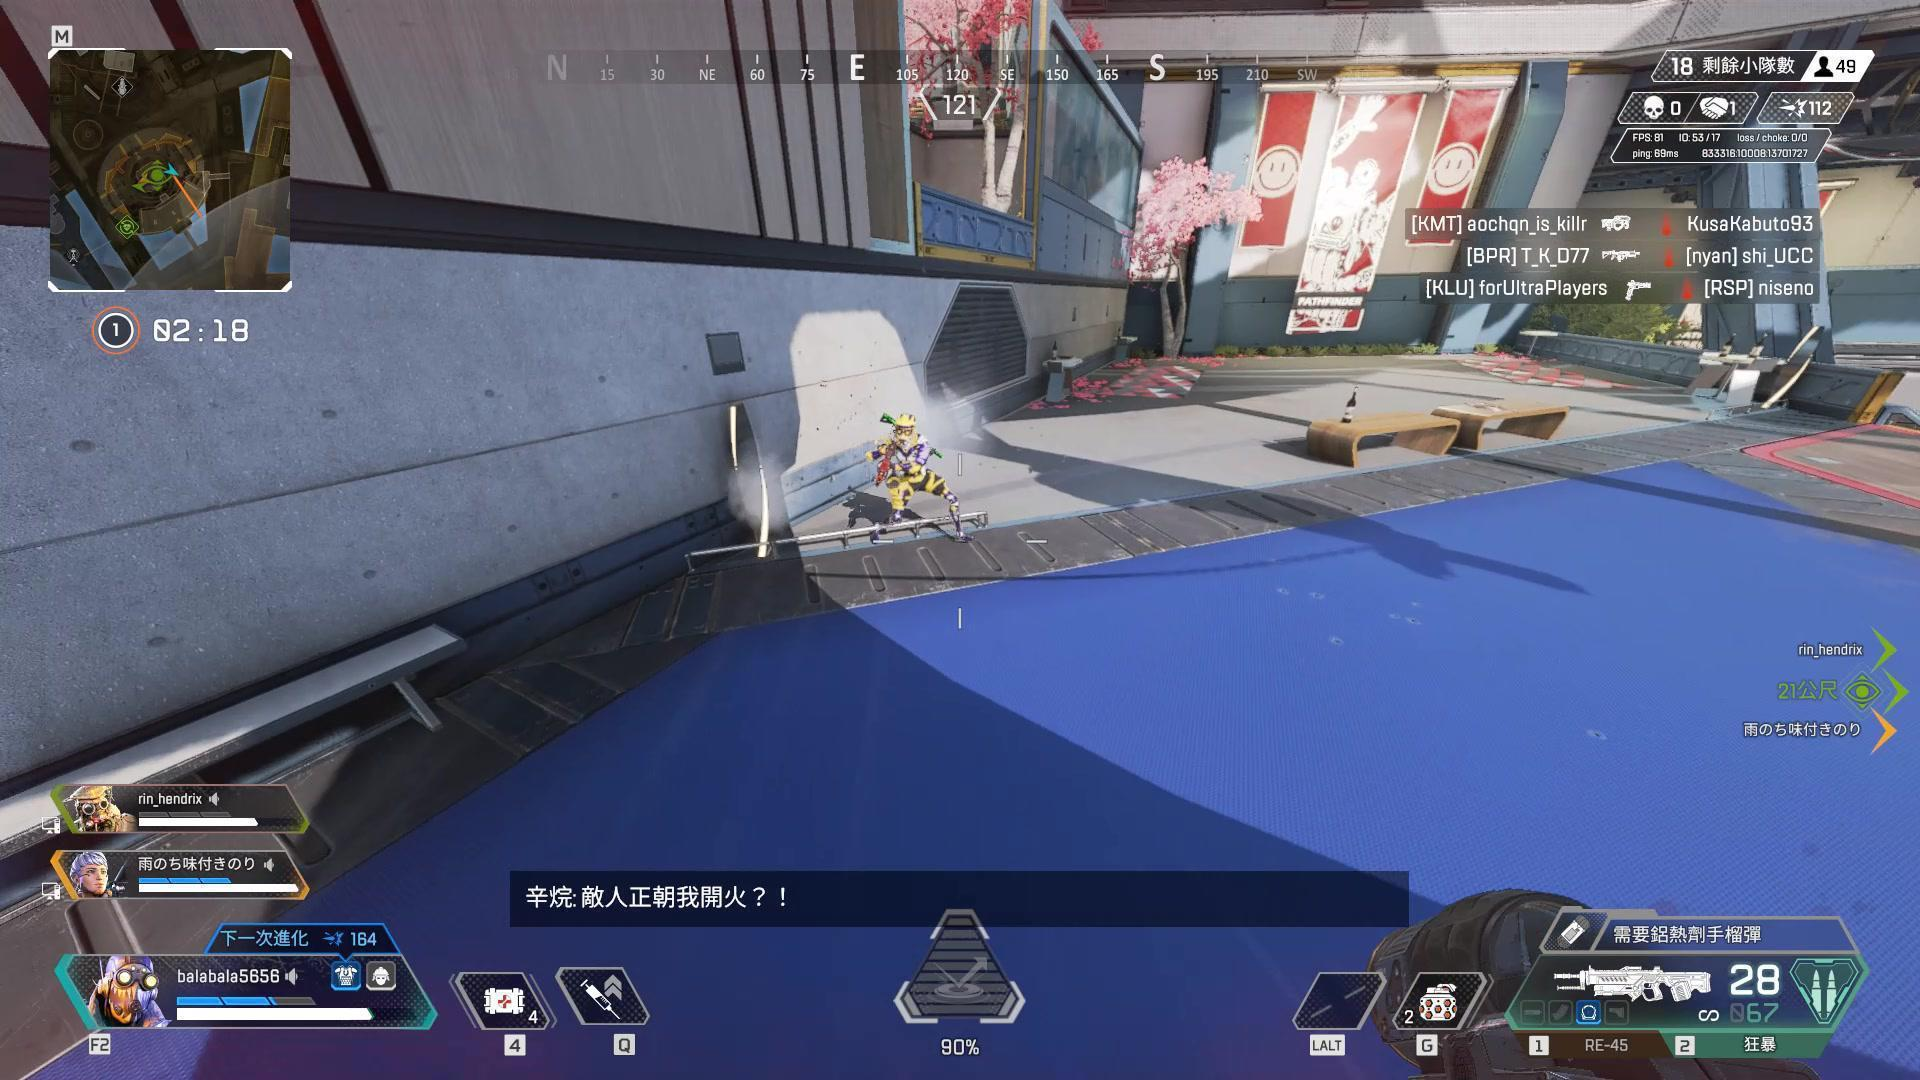avatar: (865, 410, 945, 526)
